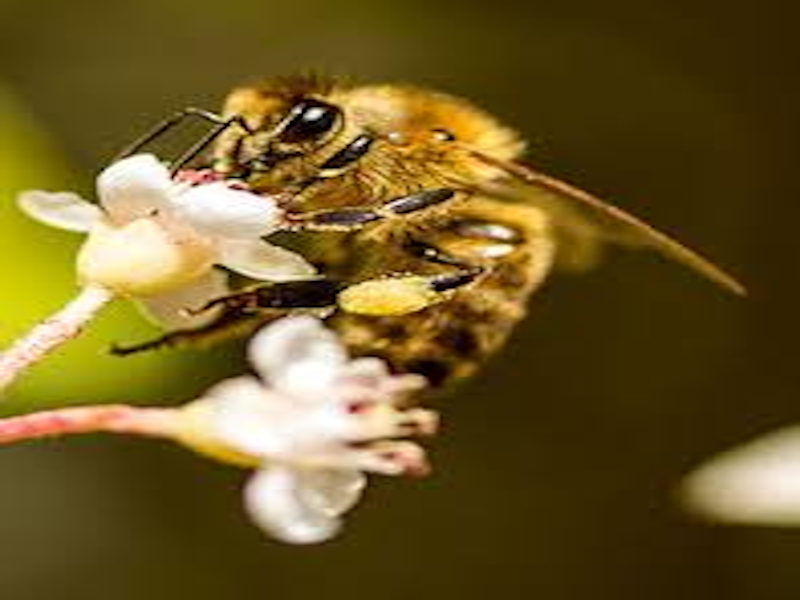abeja: (100, 59, 738, 452)
